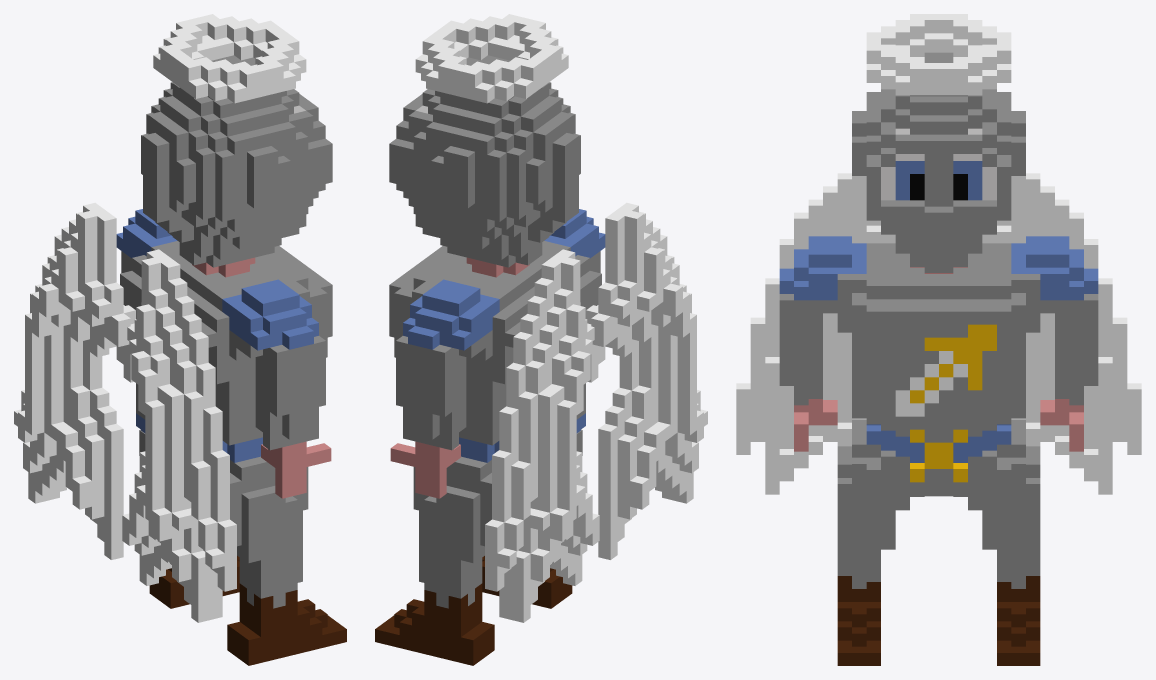
Rendered from light_knight.obj.
3 views of the same model, side by side, from view 1: azimuth 30°, elevation 25°; view 2: azimuth 150°, elevation 25°; view 3: azimuth 270°, elevation 25° (orthographic). The views are drawn at different scales.
Size of the model in its own units: 1.8 by 4.5 by 2.8.
1 material, 1 textured.
